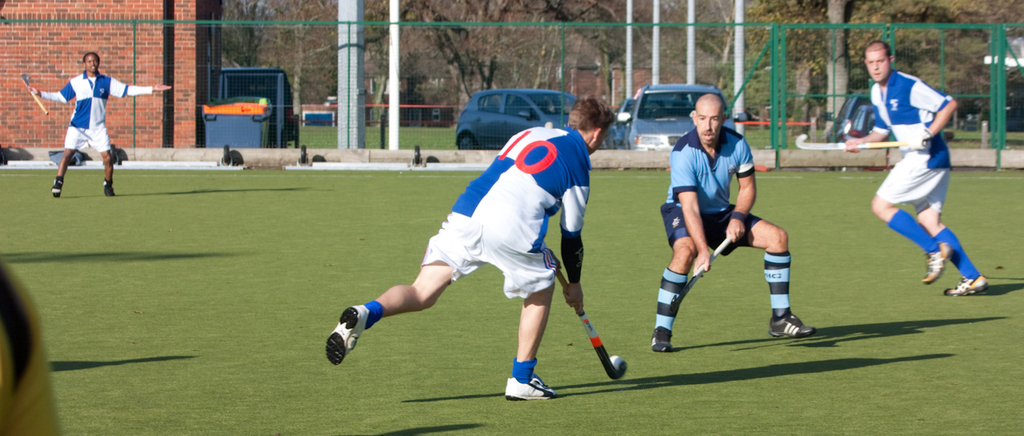Ball: (612, 355, 623, 370)
